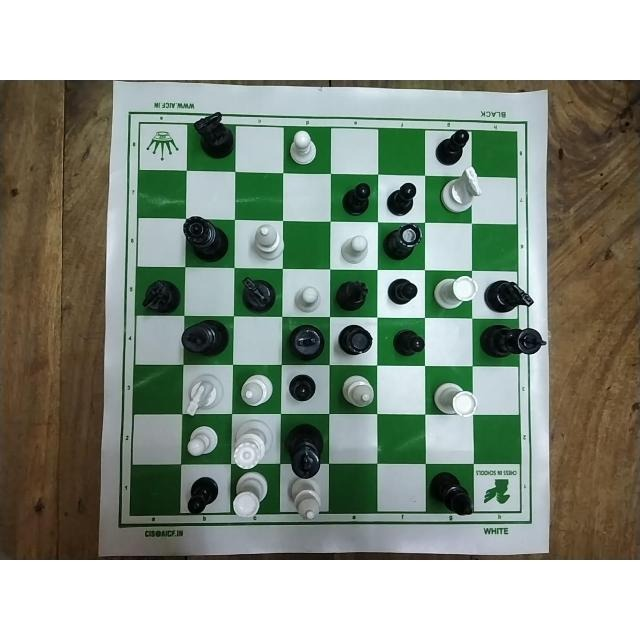black-bishop: (426, 469, 474, 516), (335, 278, 368, 310)
black-king: (479, 324, 547, 357), (282, 422, 322, 478), (182, 320, 230, 358), (286, 323, 325, 361)
black-knight: (192, 109, 236, 158), (481, 278, 535, 312), (143, 277, 180, 317), (238, 277, 276, 313)
black-pawn: (186, 474, 222, 513), (434, 129, 468, 165), (341, 181, 373, 215), (385, 181, 416, 215), (390, 328, 424, 357), (386, 277, 419, 305), (287, 374, 317, 403)
black-queen: (180, 213, 230, 263)
black-rook: (383, 221, 422, 263), (335, 321, 373, 357)
white-bishop: (288, 478, 321, 522), (340, 373, 375, 411), (240, 372, 274, 408), (251, 223, 283, 258)
white-knight: (439, 167, 483, 214), (184, 372, 228, 416)
white-pawn: (288, 129, 320, 167), (185, 423, 218, 458), (340, 234, 371, 266), (292, 285, 322, 313)
white-queen: (231, 419, 276, 468)
white-rook: (429, 380, 476, 420), (231, 472, 269, 520), (433, 276, 477, 310)
